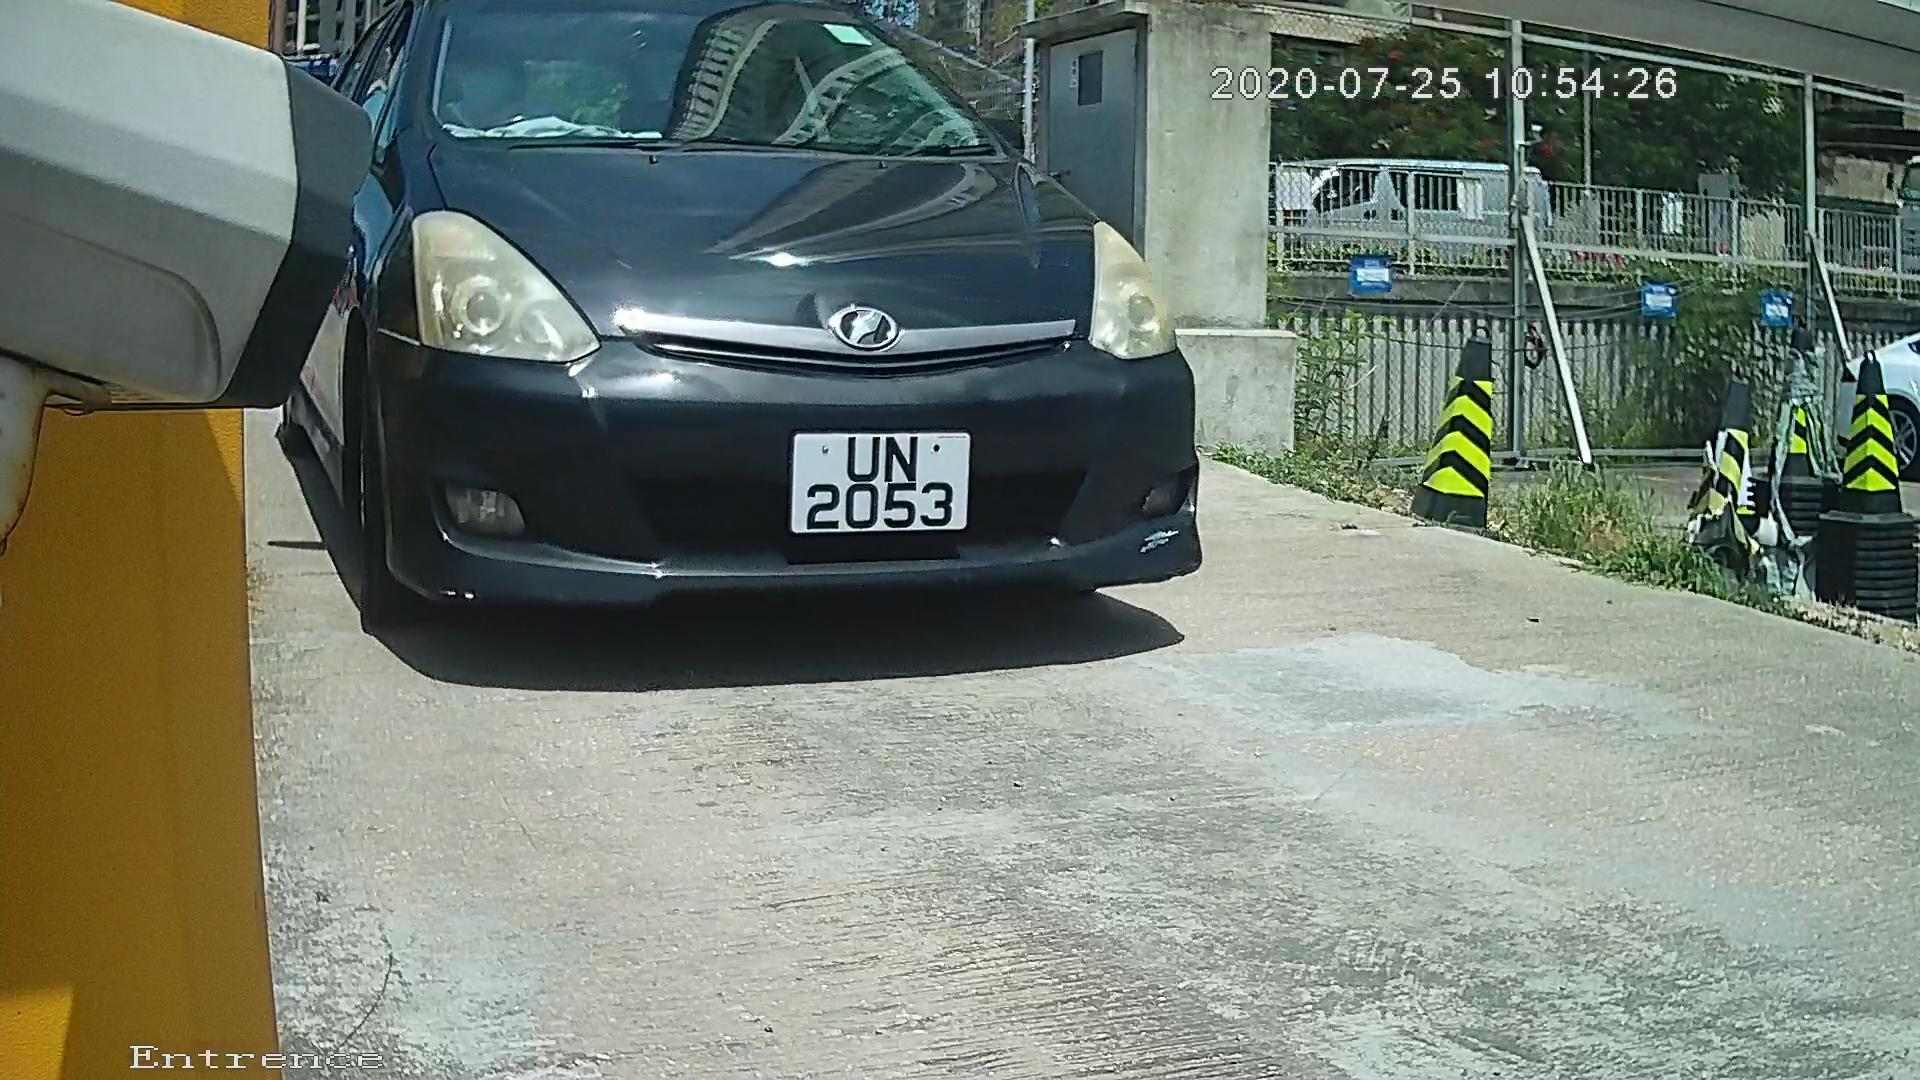Car: (86, 5, 1329, 714)
License Plate: (763, 420, 986, 555)
